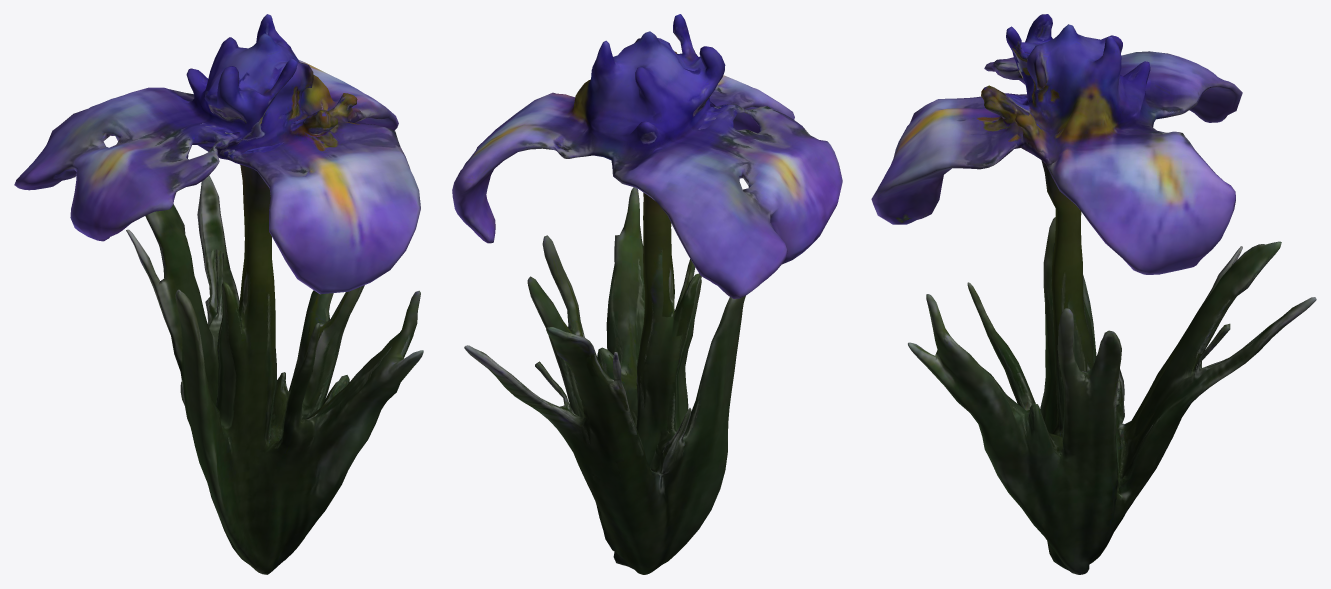
File: d6fc9aae6682_fab58fc3e9a3_Iris_Flower_3d__3d_.glb
The picture shows the model from 3 angles, left to right: view 1: azimuth 30°, elevation 25°; view 2: azimuth 150°, elevation 25°; view 3: azimuth 270°, elevation 25°; orthographic projection.
Parts seen in each view (by area): view 1: mesh; view 2: mesh; view 3: mesh.
Boxes of the visible parts, bbox=[...] form: mesh: bbox=[14, 14, 423, 574]; mesh: bbox=[452, 14, 842, 574]; mesh: bbox=[871, 14, 1316, 574].
Size of the model in its own units: 0.6636 by 0.9939 by 0.7402.
1 material, 1 textured.
